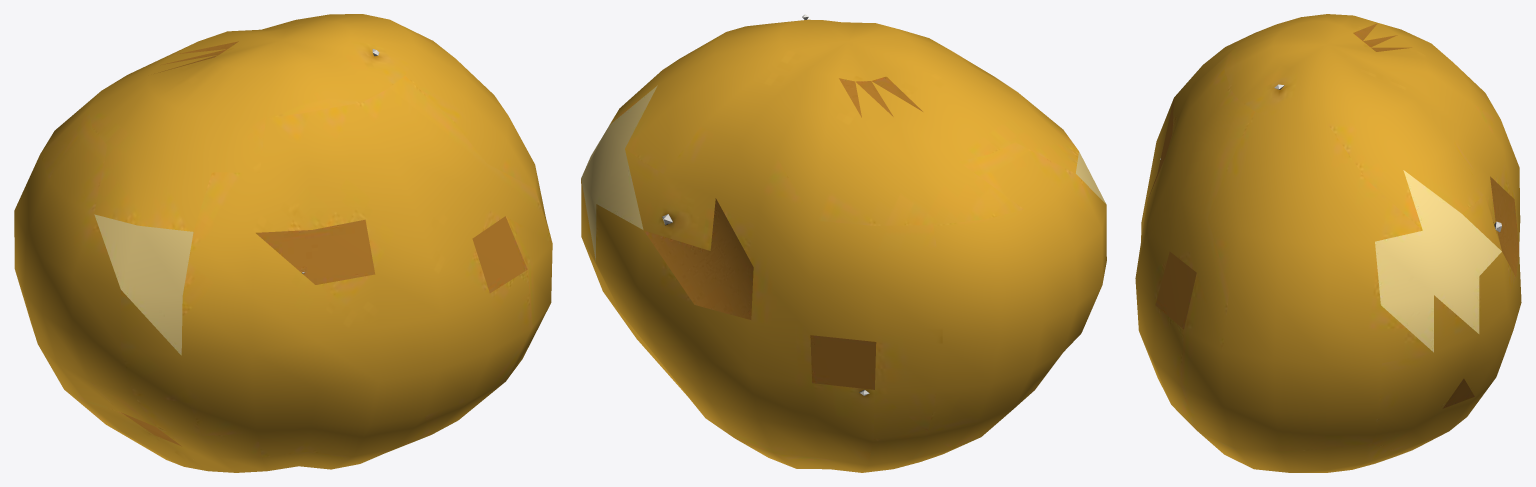
3 views of the same model, side by side, from view 1: azimuth 30°, elevation 25°; view 2: azimuth 150°, elevation 25°; view 3: azimuth 270°, elevation 25° (orthographic). The views are drawn at different scales.
Parts seen in each view (by area): view 1: Nugget_Polished_Gold, Nugget_Amber_Recess, Nugget_Light_Gold; view 2: Nugget_Polished_Gold, Nugget_Amber_Recess, Nugget_Light_Gold; view 3: Nugget_Polished_Gold, Nugget_Light_Gold, Nugget_Amber_Recess.
Part boxes in pixels (x1,y1,x2,y2): Nugget_Polished_Gold: (14, 14, 552, 472); Nugget_Amber_Recess: (121, 41, 527, 446); Nugget_Light_Gold: (94, 214, 193, 355); Nugget_Polished_Gold: (581, 19, 1106, 472); Nugget_Amber_Recess: (644, 76, 922, 389); Nugget_Light_Gold: (581, 85, 1106, 261); Nugget_Polished_Gold: (1135, 14, 1521, 472); Nugget_Light_Gold: (1375, 170, 1501, 352); Nugget_Amber_Recess: (1148, 23, 1518, 408).
Size of the model in its own units: 0.3 by 0.2464 by 0.2171.
Materials: 4 (4 with a texture image).
